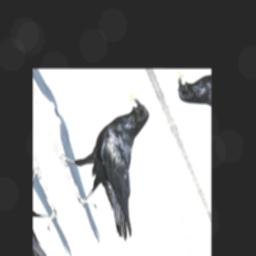Crow: (48, 91, 190, 255)
